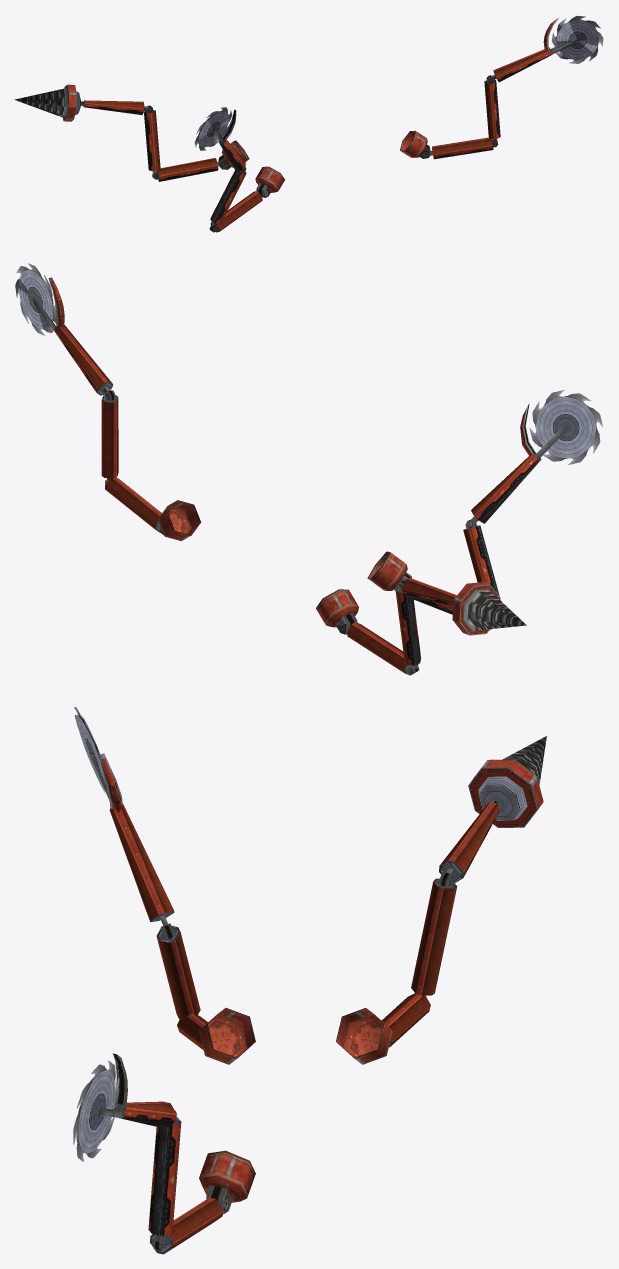
The model's file is stg400_MotExcavaterBig_21.obj.
3 views of the same model, one above another, from view 1: azimuth 30°, elevation 25°; view 2: azimuth 150°, elevation 25°; view 3: azimuth 270°, elevation 25° (orthographic). The views are drawn at different scales.
Parts seen in each view (by area): view 1: polygon7, polygon3, polygon11, polygon1, polygon9, polygon6, polygon2, polygon4, polygon8, polygon0, polygon5; view 2: polygon3, polygon9, polygon7, polygon11, polygon4, polygon1, polygon6, polygon2, polygon8, polygon10; view 3: polygon7, polygon3, polygon11, polygon4, polygon1, polygon8, polygon5, polygon2, polygon9, polygon6, polygon0.
Boxes of the visible parts, box(x1,y1,x2,y2) form: polygon7: box(84, 100, 218, 181); polygon3: box(432, 49, 551, 159); polygon11: box(210, 140, 262, 231); polygon1: box(420, 20, 598, 158); polygon9: box(198, 109, 270, 232); polygon6: box(14, 88, 68, 117); polygon2: box(400, 18, 558, 157); polygon4: box(63, 84, 249, 167); polygon8: box(235, 113, 284, 192); polygon0: box(552, 15, 603, 63); polygon5: box(75, 91, 231, 181); polygon3: box(54, 325, 161, 529); polygon9: box(393, 396, 596, 629); polygon7: box(347, 578, 456, 672); polygon11: box(413, 454, 540, 629); polygon4: box(316, 582, 500, 635); polygon1: box(18, 270, 164, 535); polygon6: box(463, 589, 526, 630); polygon2: box(48, 277, 201, 540); polygon8: box(367, 405, 533, 590); polygon10: box(529, 390, 602, 464); polygon7: box(381, 802, 499, 1046); polygon3: box(122, 1101, 223, 1252); polygon11: box(109, 804, 207, 1049); polygon4: box(336, 759, 543, 1064); polygon1: box(76, 1053, 232, 1254); polygon8: box(99, 753, 255, 1064); polygon5: box(388, 776, 527, 1047); polygon2: box(118, 1055, 255, 1202); polygon9: box(76, 715, 180, 942); polygon6: box(502, 736, 546, 785); polygon0: box(73, 1060, 119, 1161).
Size of the model in its own units: 2216 by 683 by 965.
Materials: 4 (4 with a texture image).
